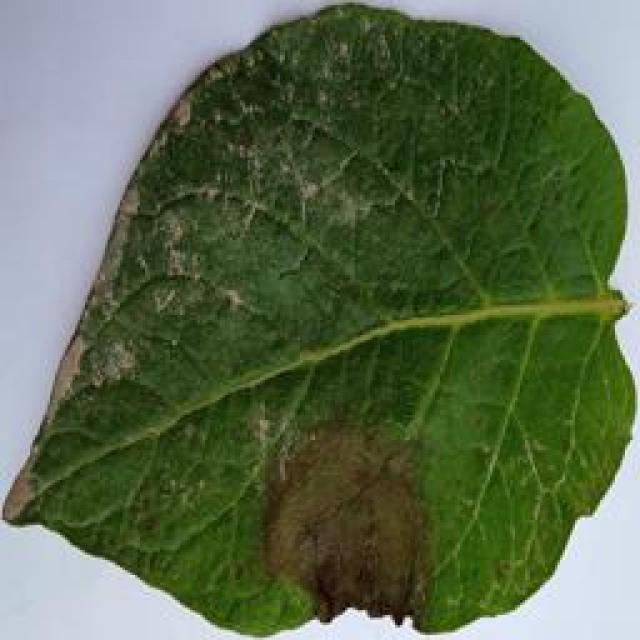Potato_Late_Blight: (7, 4, 626, 632)
